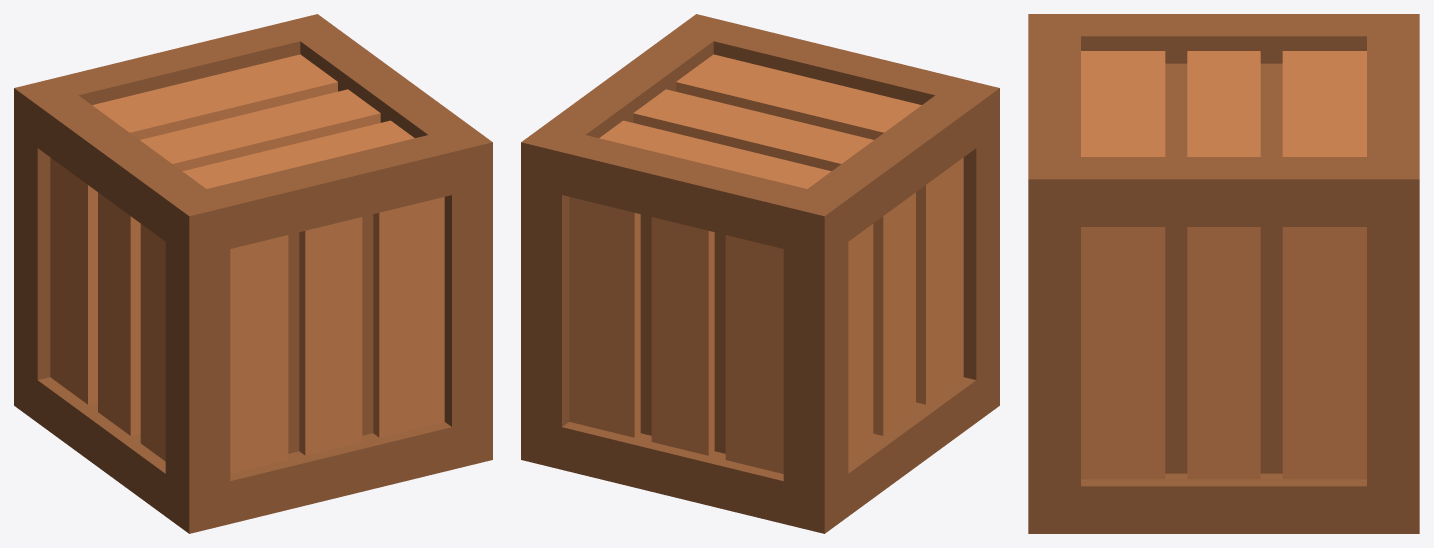
3 renders of one model, left to right at view 1: azimuth 30°, elevation 25°; view 2: azimuth 150°, elevation 25°; view 3: azimuth 270°, elevation 25°, orthographic. The views are drawn at different scales.
Visible parts, largest first — view 1: Cube, Cube.003, Cube.001, Cube.002; view 2: Cube, Cube.003, Cube.001, Cube.002; view 3: Cube, Cube.001, Cube.002.
Part boxes in pixels (x1,y1,x2,y2): Cube: (14,14,492,533); Cube.003: (230,197,444,473); Cube.001: (50,157,165,461); Cube.002: (92,54,414,188); Cube: (521,14,999,533); Cube.003: (569,197,783,473); Cube.001: (848,157,963,461); Cube.002: (599,54,921,188); Cube: (1028,14,1419,533); Cube.001: (1081,227,1366,479); Cube.002: (1081,51,1366,156).
Size of the model in its own units: 200 by 200 by 200.
